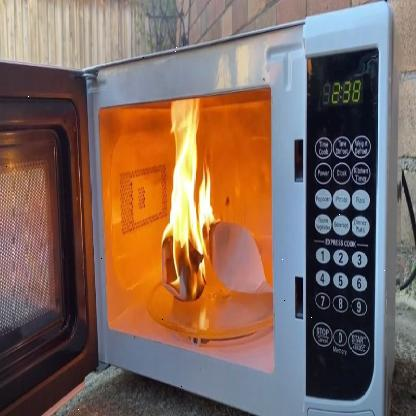fire: (149, 104, 222, 312)
